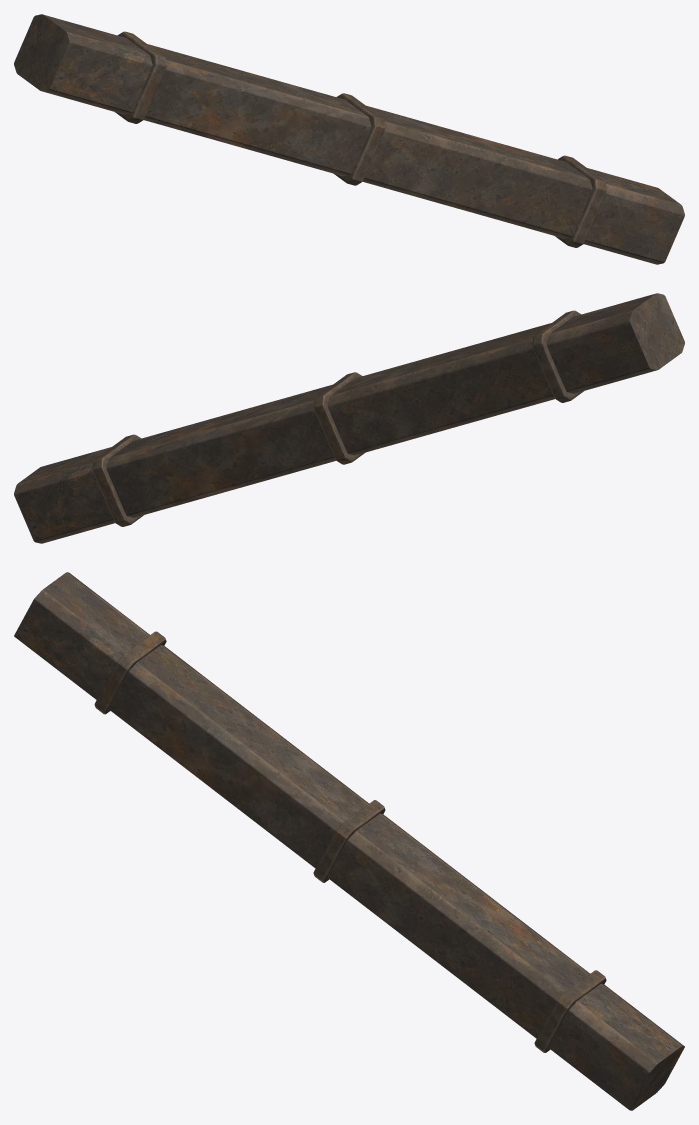
3 renders of one model, top to bottom at view 1: azimuth 30°, elevation 25°; view 2: azimuth 150°, elevation 25°; view 3: azimuth 330°, elevation 25°, orthographic.
Visible parts, largest first — view 1: SM_BB_T3_Extended_Beam_Thin_Large_Shallow_LOD0; view 2: SM_BB_T3_Extended_Beam_Thin_Large_Shallow_LOD0; view 3: SM_BB_T3_Extended_Beam_Thin_Large_Shallow_LOD0.
Boxes of the visible parts, left/top/right/bottom form: SM_BB_T3_Extended_Beam_Thin_Large_Shallow_LOD0: left=14, top=14, right=684, bottom=264; SM_BB_T3_Extended_Beam_Thin_Large_Shallow_LOD0: left=14, top=293, right=684, bottom=543; SM_BB_T3_Extended_Beam_Thin_Large_Shallow_LOD0: left=14, top=572, right=684, bottom=1110.
Bounding box in the file's own units: 3.13 × 1.76 × 0.3367.
Materials: 1 (1 with a texture image).
